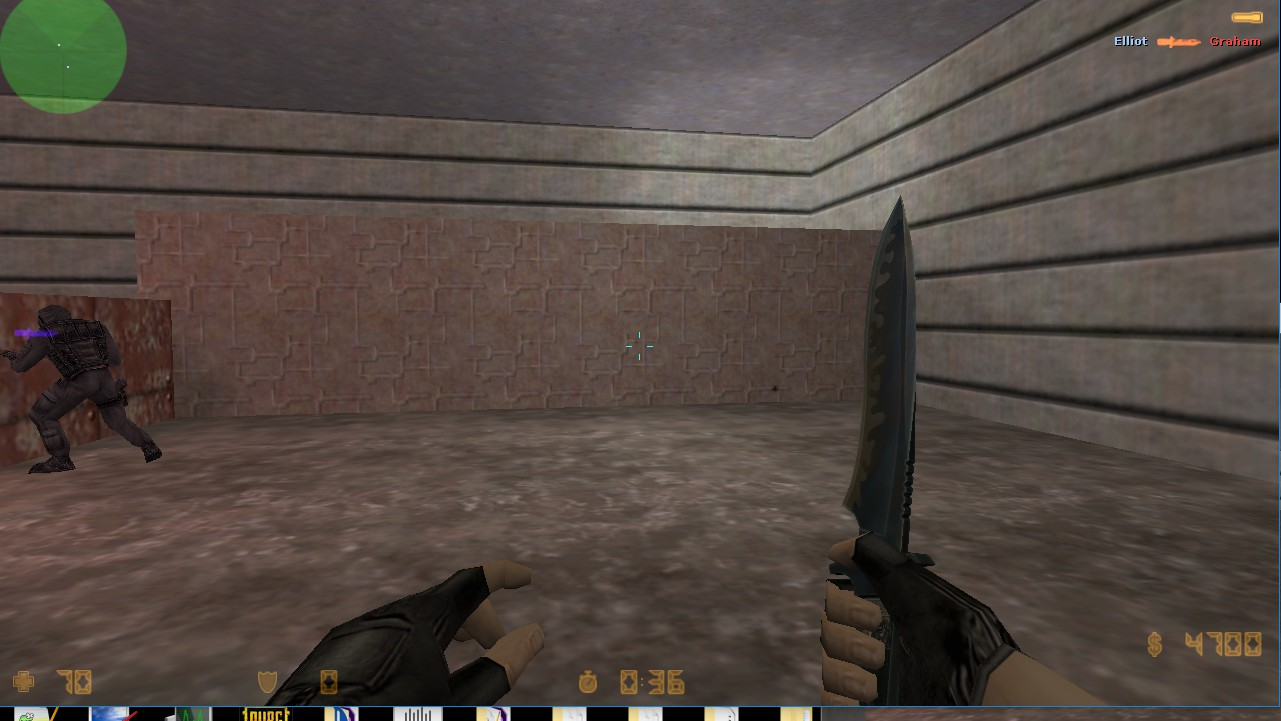person: (27, 304, 142, 472)
